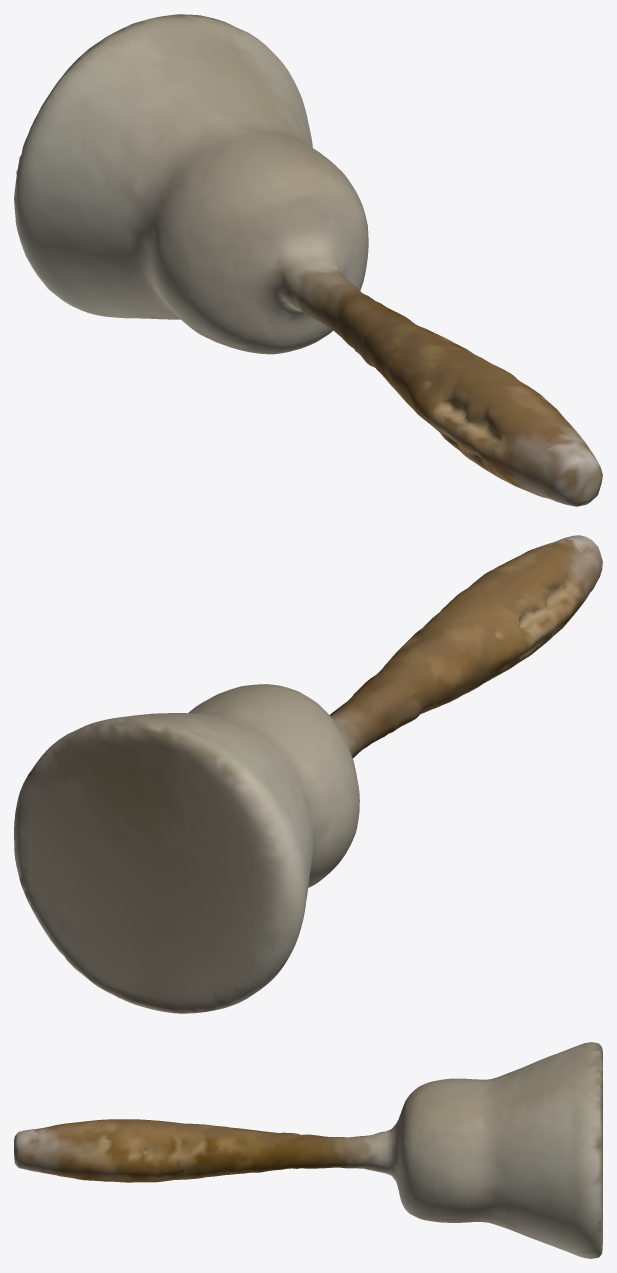
Rendered from bell.glb.
3 views of the same model, one above another, from view 1: azimuth 30°, elevation 25°; view 2: azimuth 150°, elevation 25°; view 3: azimuth 270°, elevation 25° (orthographic). The views are drawn at different scales.
Bounding box in the file's own units: 0.3785 × 0.3613 × 1.
